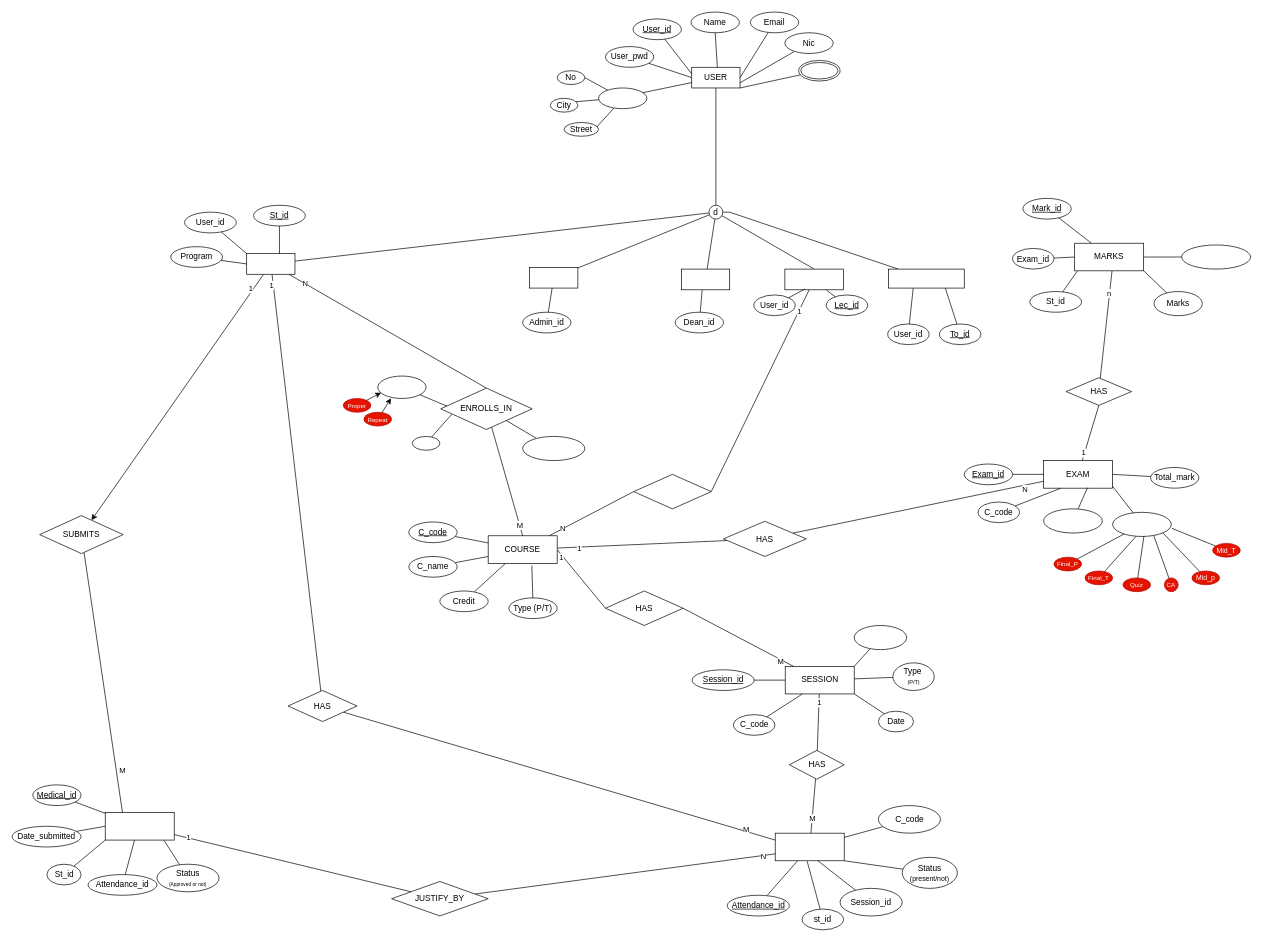
This 1263x942 diagram has some shape labels left out. The shapes that lost their labels are listed below. From the top down, each one's box as (x1, y1, x2, y2) in pixels, then its label:
(798, 60, 840, 81): Phone
(598, 87, 647, 109): Address
(246, 253, 295, 274): STUDENT
(1181, 244, 1251, 269): Direct_marks
(529, 267, 578, 288): ADMIN
(681, 268, 730, 290): DEAN
(784, 268, 844, 290): LECTURER
(888, 268, 964, 288): TECH_OFFICER
(377, 375, 426, 398): Status
(412, 436, 440, 450): Sem
(522, 436, 585, 461): Academic_yr
(633, 474, 711, 509): TEACHES
(1043, 508, 1102, 533): Exam_date
(1112, 512, 1171, 536): Exam_type
(854, 625, 907, 650): Week_no
(105, 812, 174, 840): MEDICAL
(775, 832, 844, 861): ATTENDANCE
